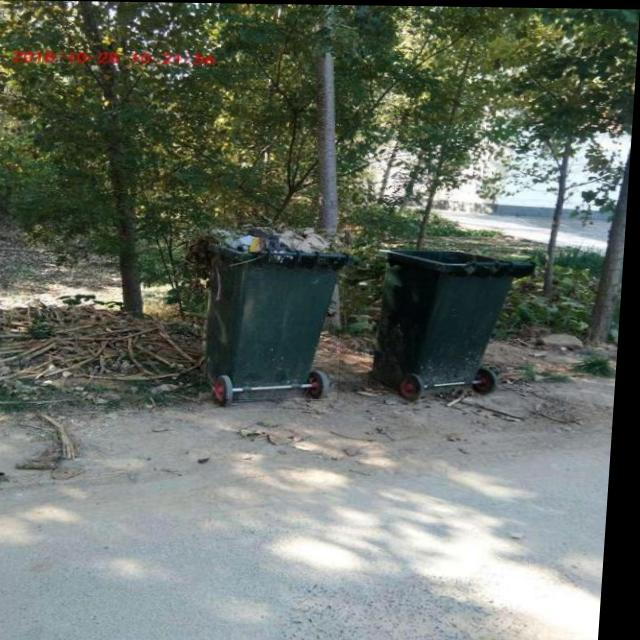garbage_bin: (373, 246, 539, 395)
overflow: (205, 226, 352, 400)
